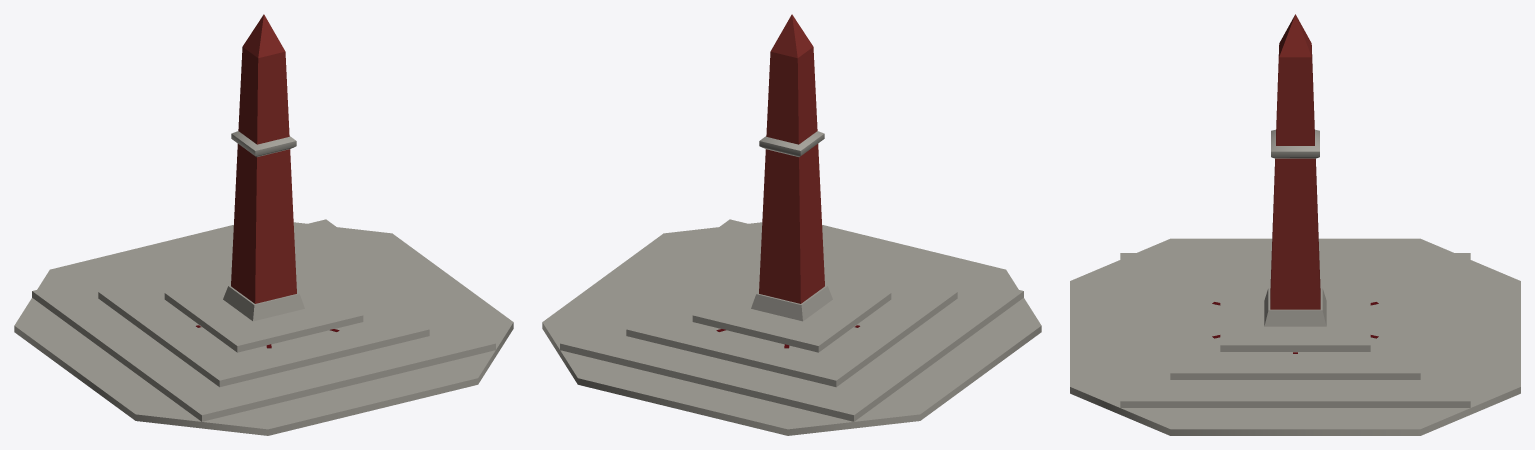
The model's file is Monument7.fbx.
3 views of the same model, side by side, from view 1: azimuth 30°, elevation 25°; view 2: azimuth 150°, elevation 25°; view 3: azimuth 270°, elevation 25° (orthographic). The views are drawn at different scales.
Parts seen in each view (by area): view 1: Monument7; view 2: Monument7; view 3: Monument7.
Boxes of the visible parts, x1,y1,x2,y2 form: Monument7: [14, 14, 513, 435]; Monument7: [542, 14, 1041, 435]; Monument7: [1070, 14, 1520, 435].
Bounding box in the file's own units: 9 × 7.2 × 9.
